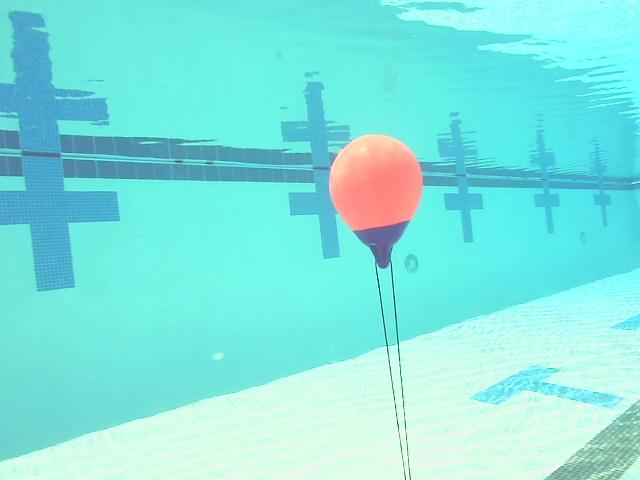buoy: (330, 134, 423, 268)
